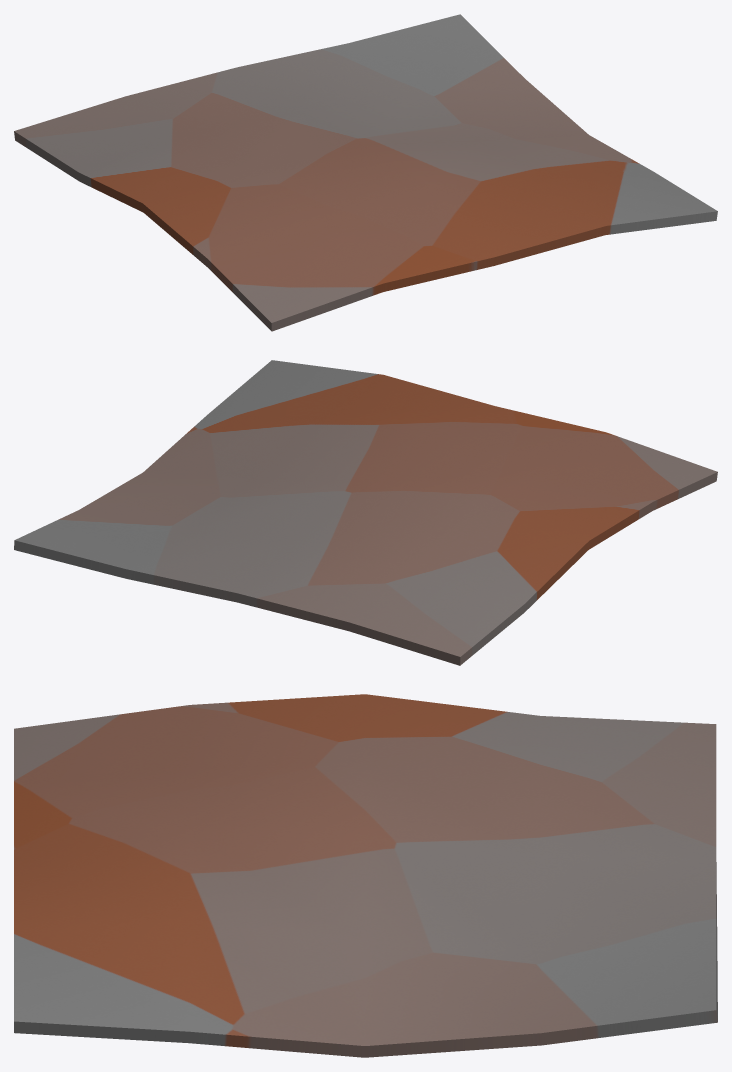
Rendered from MetalOxidado3.fbx.
3 renders of one model, top to bottom at view 1: azimuth 30°, elevation 25°; view 2: azimuth 150°, elevation 25°; view 3: azimuth 270°, elevation 25°, orthographic. The views are drawn at different scales.
Visible parts, largest first — view 1: Metal oxidado.002; view 2: Metal oxidado.002; view 3: Metal oxidado.002.
Part boxes in pixels (left/top/right/bottom): Metal oxidado.002: left=14, top=14, right=717, bottom=331; Metal oxidado.002: left=14, top=360, right=717, bottom=665; Metal oxidado.002: left=14, top=694, right=717, bottom=1057.
Bounding box in the file's own units: 100 × 12.31 × 100.
1 material, 1 textured.
